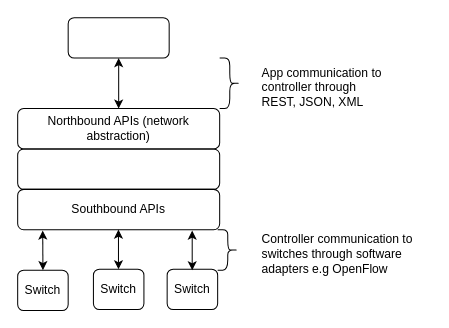
Some shapes in this 449 by 328 pixel diagram are drawn without their labels. The centre of each missing label's shape, as x and y in pixels:
Load Balancer App: the point at 118,37
SDN Network Controller: the point at 118,168
